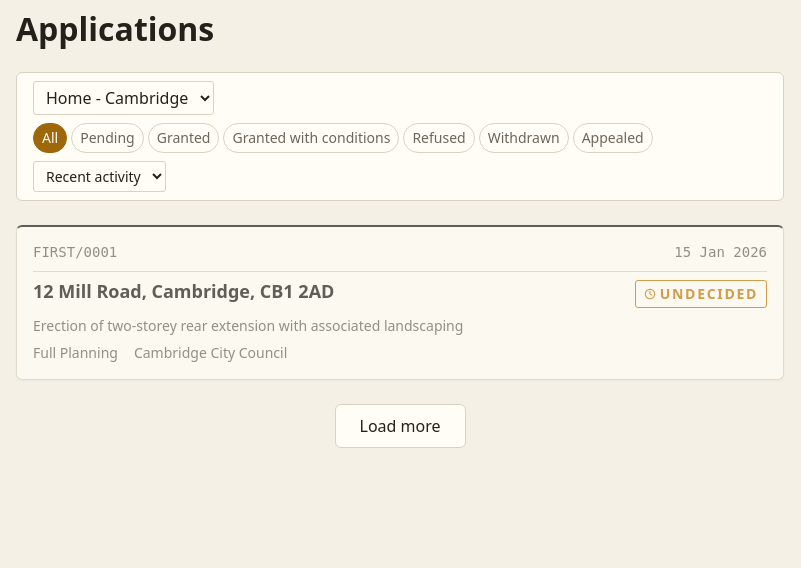
Test: ApplicationsPage — Load more (keyset pagination) › appends the next page when Load more is clicked, then hides the button on the last page
Expected: the text "FIRST/0001" is shown, [33, 243, 117, 263]
What coordinates should you click on to do the following:
click the button "Load more"
I would click on:
 (400, 426)
Its box is [334, 404, 466, 448].
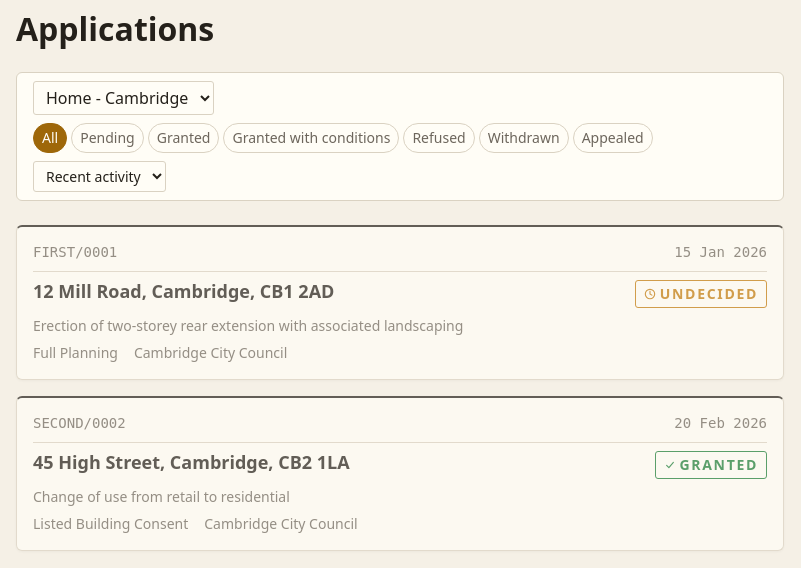
Expected: the text "FIRST/0001" is shown, [33, 243, 117, 263]
Expected: the text "SECOND/0002" is shown, [33, 414, 126, 434]
Expected: the button "Load more" is gone
